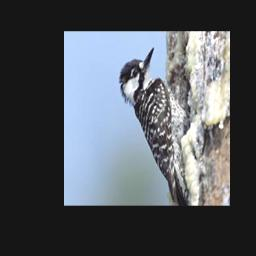Woodpecker: (119, 42, 209, 202)
